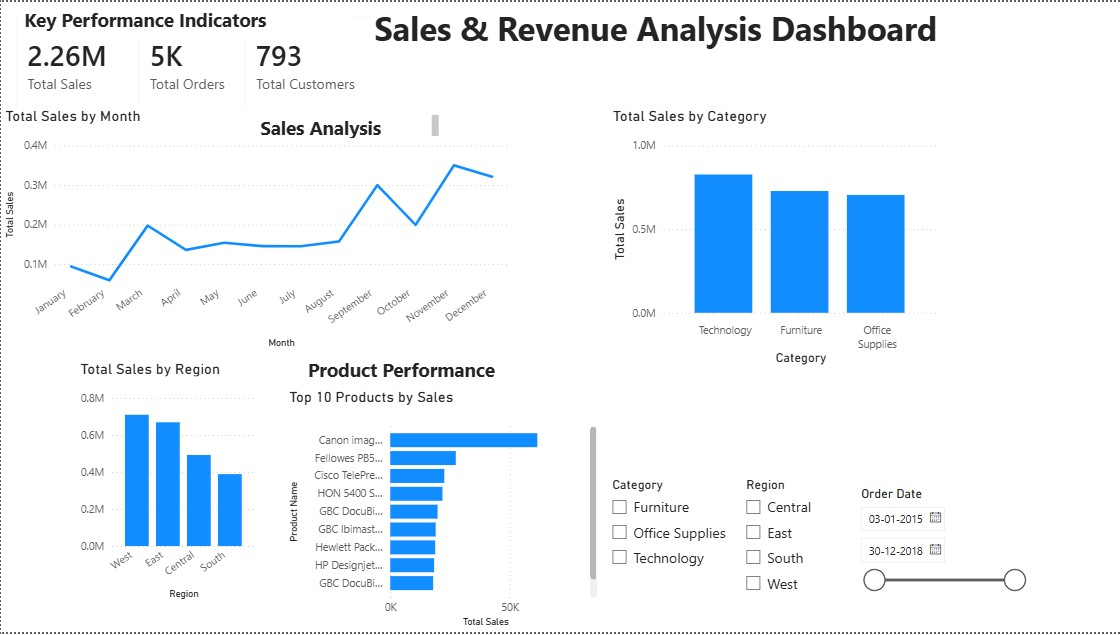

The dashboard page shown, as its layout file describes it:
{"tool":"powerbi","page":{"name":"Page 1","canvas":[1280,720],"ordinal":0},"visuals":[{"type":"cardVisual","fields":{"Data":["Sales.Total Sales"]},"box":[0,22.9,191.4,101.4],"z":0},{"type":"cardVisual","fields":{"Data":["Sales.Total Orders"]},"box":[191.4,12.9,152,140],"z":1000},{"type":"cardVisual","fields":{"Data":["Sales.Total Customers"]},"box":[314.3,22.9,251.4,101.4],"z":2000},{"type":"lineChart","fields":{"Category":["Sales.Order Date.Variation.Date Hierarchy.Month"],"Y":["Sales.Total Sales"]},"box":[0,120,584,280],"z":3000},{"type":"clusteredColumnChart","fields":{"Category":["Sales.Category"],"Y":["Sales.Total Sales"]},"box":[694,120,382,300],"z":4000},{"type":"clusteredColumnChart","fields":{"Category":["Sales.Region"],"Y":["Sales.Total Sales"]},"box":[86,408,210,279],"z":5000},{"type":"clusteredBarChart","title":"Top 10 Products by Sales","fields":{"Category":["Sales.Product Name"],"Y":["Sales.Total Sales"]},"box":[324,442,362,278],"z":6000},{"type":"slicer","fields":{"Values":["Sales.Category"]},"box":[684.3,441.4,148,140],"z":7000},{"type":"slicer","fields":{"Values":["Sales.Region"]},"box":[832.9,441.4,118,160],"z":8000},{"type":"slicer","fields":{"Values":["Sales.Order Date"]},"box":[951.4,441.4,210,151],"z":9000},{"type":"textbox","box":[1076,120,150,300],"z":10000},{"type":"textbox","box":[492.9,0,751.4,124.3],"z":11000},{"type":"textbox","box":[22,0,378,44],"z":12000},{"type":"textbox","box":[292,124,214,36],"z":13000},{"type":"textbox","box":[346,400,294,42],"z":14000},{"type":"textbox","box":[685.7,581.4,232.9,41.4],"z":15000},{"type":"textbox","box":[708.6,611.4,442.9,47.1],"z":16000},{"type":"textbox","box":[708.6,640,571.4,80],"z":17000}]}

Visuals, with their boxes in screenshot pixels (x1, y1, x2, y2), scaled from the page's 1280x720 canvas onto the 1120x635 screenshot:
cardVisual - Sales.Total Sales: {"x1": 0, "y1": 20, "x2": 167, "y2": 110}
cardVisual - Sales.Total Orders: {"x1": 167, "y1": 11, "x2": 300, "y2": 135}
cardVisual - Sales.Total Customers: {"x1": 275, "y1": 20, "x2": 495, "y2": 110}
lineChart - Sales.Order Date.Variation.Date Hierarchy.Month x Sales.Total Sales: {"x1": 0, "y1": 106, "x2": 511, "y2": 353}
clusteredColumnChart - Sales.Category x Sales.Total Sales: {"x1": 607, "y1": 106, "x2": 942, "y2": 370}
clusteredColumnChart - Sales.Region x Sales.Total Sales: {"x1": 75, "y1": 360, "x2": 259, "y2": 606}
"Top 10 Products by Sales" clusteredBarChart: {"x1": 284, "y1": 390, "x2": 600, "y2": 634}
slicer - Sales.Category: {"x1": 599, "y1": 389, "x2": 728, "y2": 513}
slicer - Sales.Region: {"x1": 729, "y1": 389, "x2": 832, "y2": 530}
slicer - Sales.Order Date: {"x1": 832, "y1": 389, "x2": 1016, "y2": 522}
textbox: {"x1": 942, "y1": 106, "x2": 1073, "y2": 370}
textbox: {"x1": 431, "y1": 0, "x2": 1089, "y2": 110}
textbox: {"x1": 19, "y1": 0, "x2": 350, "y2": 39}
textbox: {"x1": 256, "y1": 109, "x2": 443, "y2": 141}
textbox: {"x1": 303, "y1": 353, "x2": 560, "y2": 390}
textbox: {"x1": 600, "y1": 513, "x2": 804, "y2": 549}
textbox: {"x1": 620, "y1": 539, "x2": 1008, "y2": 581}
textbox: {"x1": 620, "y1": 564, "x2": 1119, "y2": 634}
